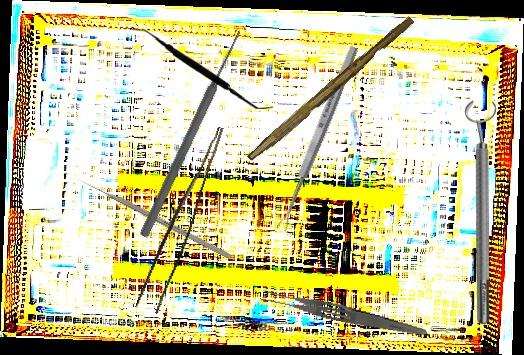Dressing Forceps: (258, 286, 430, 340)
Fixation Ring: (464, 100, 499, 324)
Pusher: (137, 26, 247, 240), (74, 174, 232, 260)
Scalpel Handle: (246, 12, 416, 167)
Spatula Surgical: (128, 27, 275, 110)
Surgical Spoon: (274, 44, 361, 233)
Tissue Forceps: (135, 119, 224, 316)
